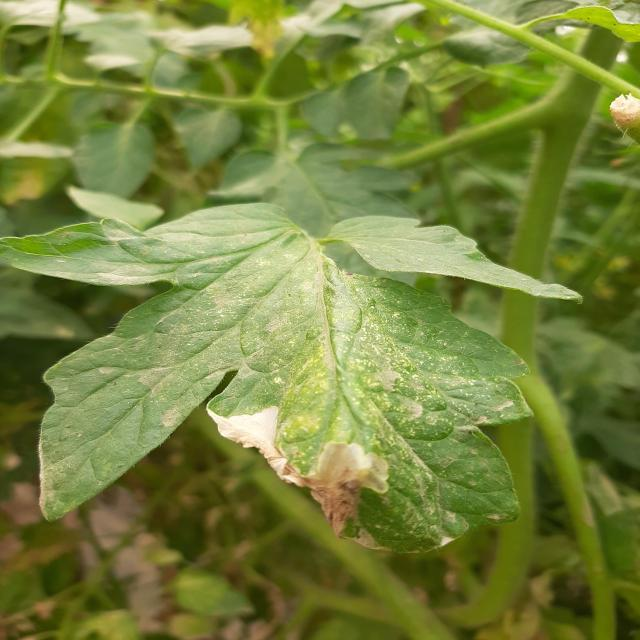Tuta absoluta: (200, 351, 401, 541)
